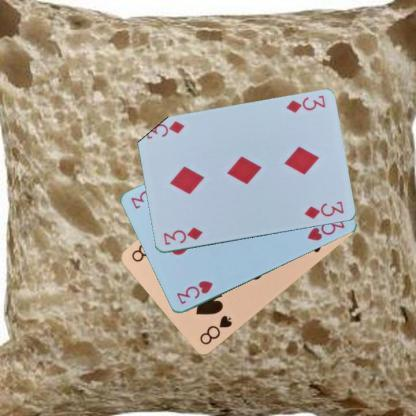3d: (160, 224, 204, 247), (283, 92, 327, 115)
3h: (174, 277, 214, 306)
8s: (197, 312, 233, 346)
